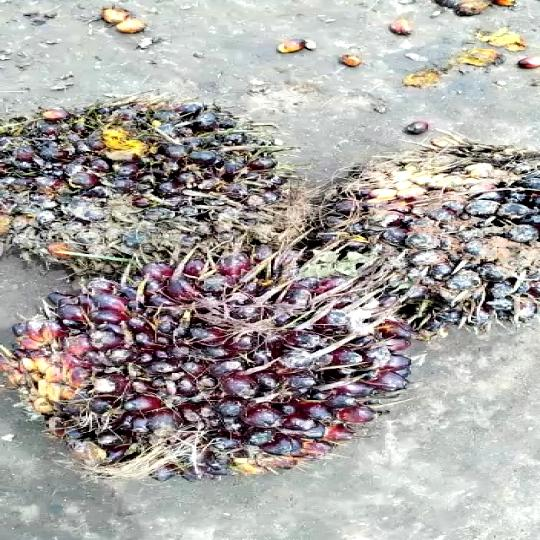kurang masak: (23, 244, 425, 508), (0, 94, 264, 271), (303, 144, 540, 332)
